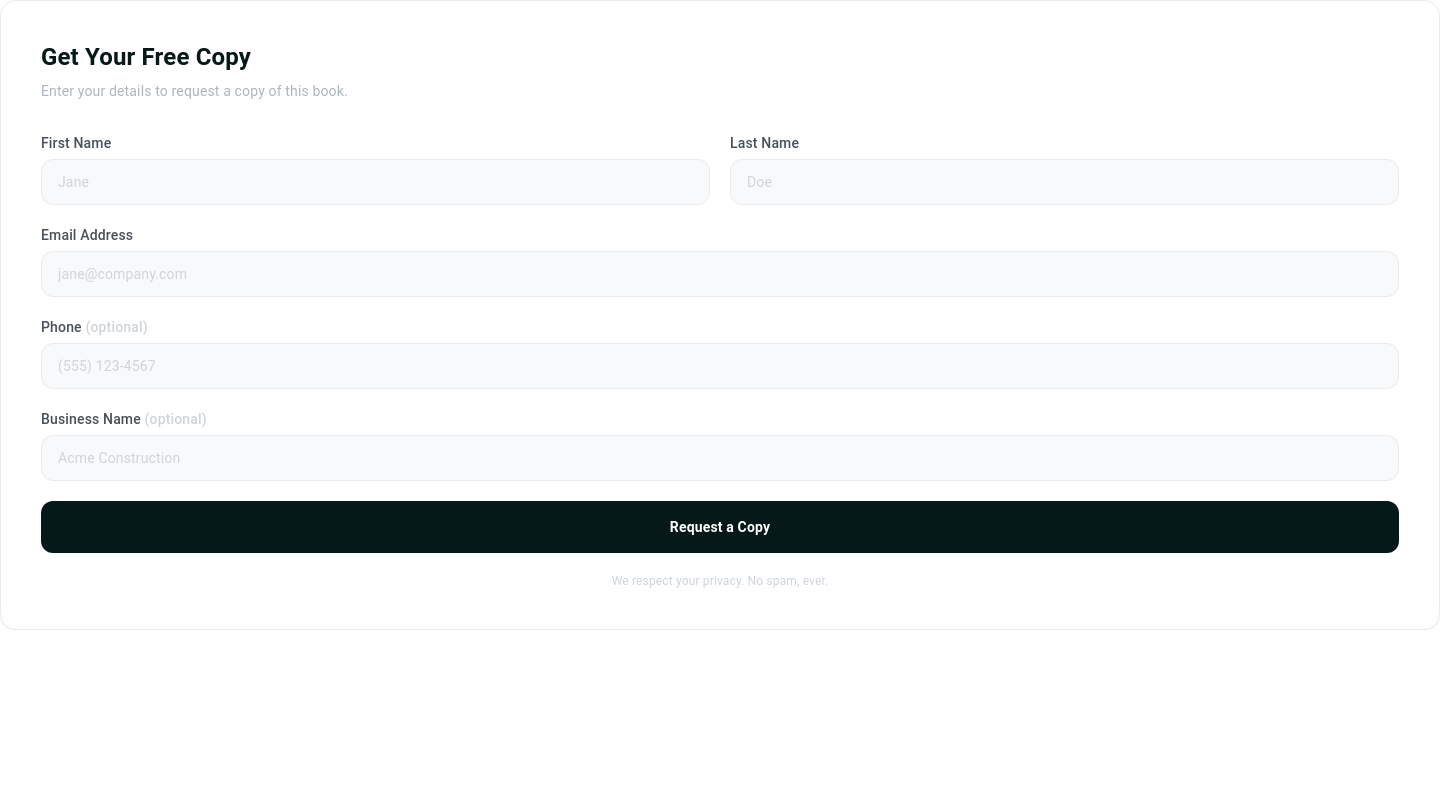
Test: book lead identity › keeps the form retryable after failed delivery
Step 1. Type "Ava" into the field labelled "First Name" → (376, 182), box [41,159,710,205]
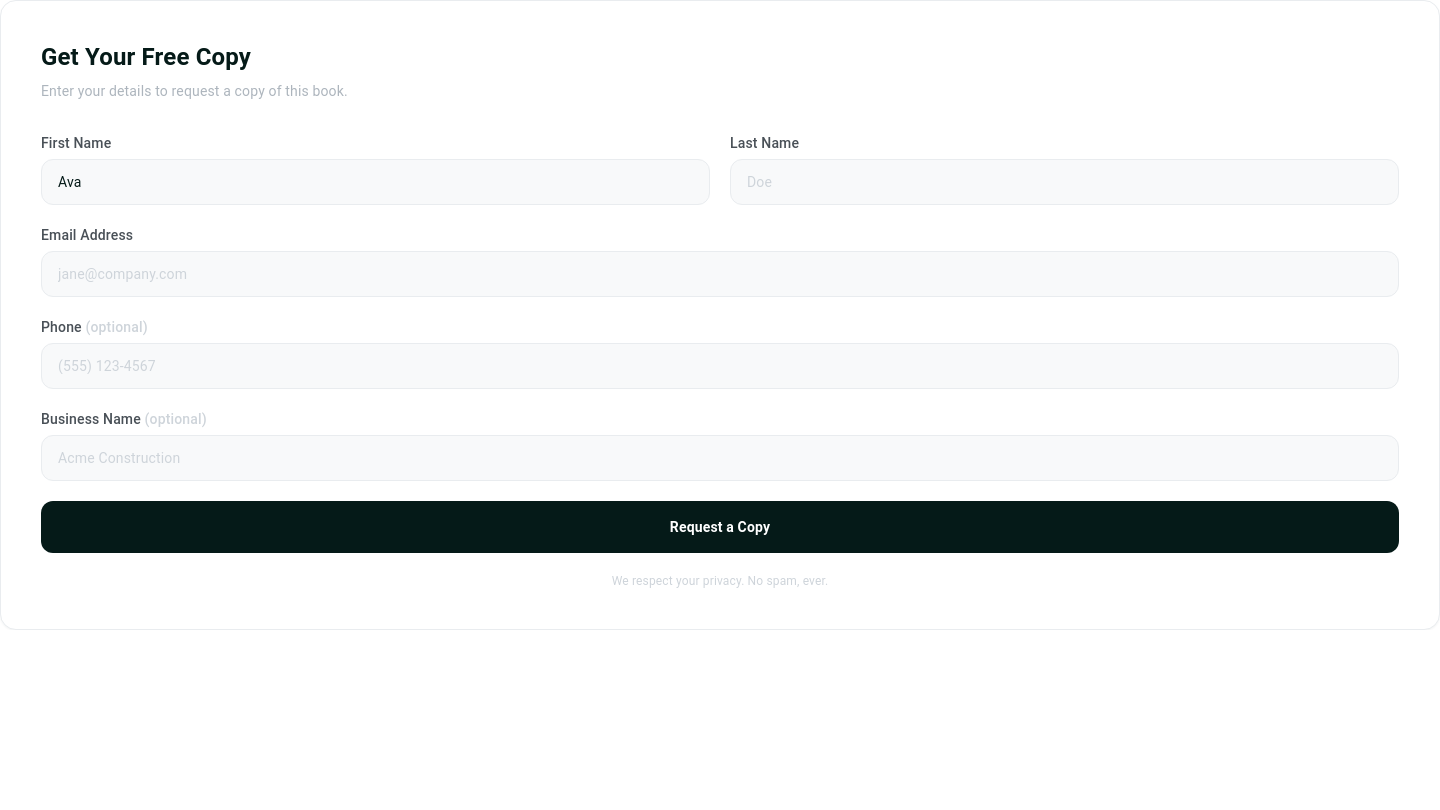
Step 2. Type "Rivera" into the field labelled "Last Name" → (1064, 182), box [730,159,1399,205]
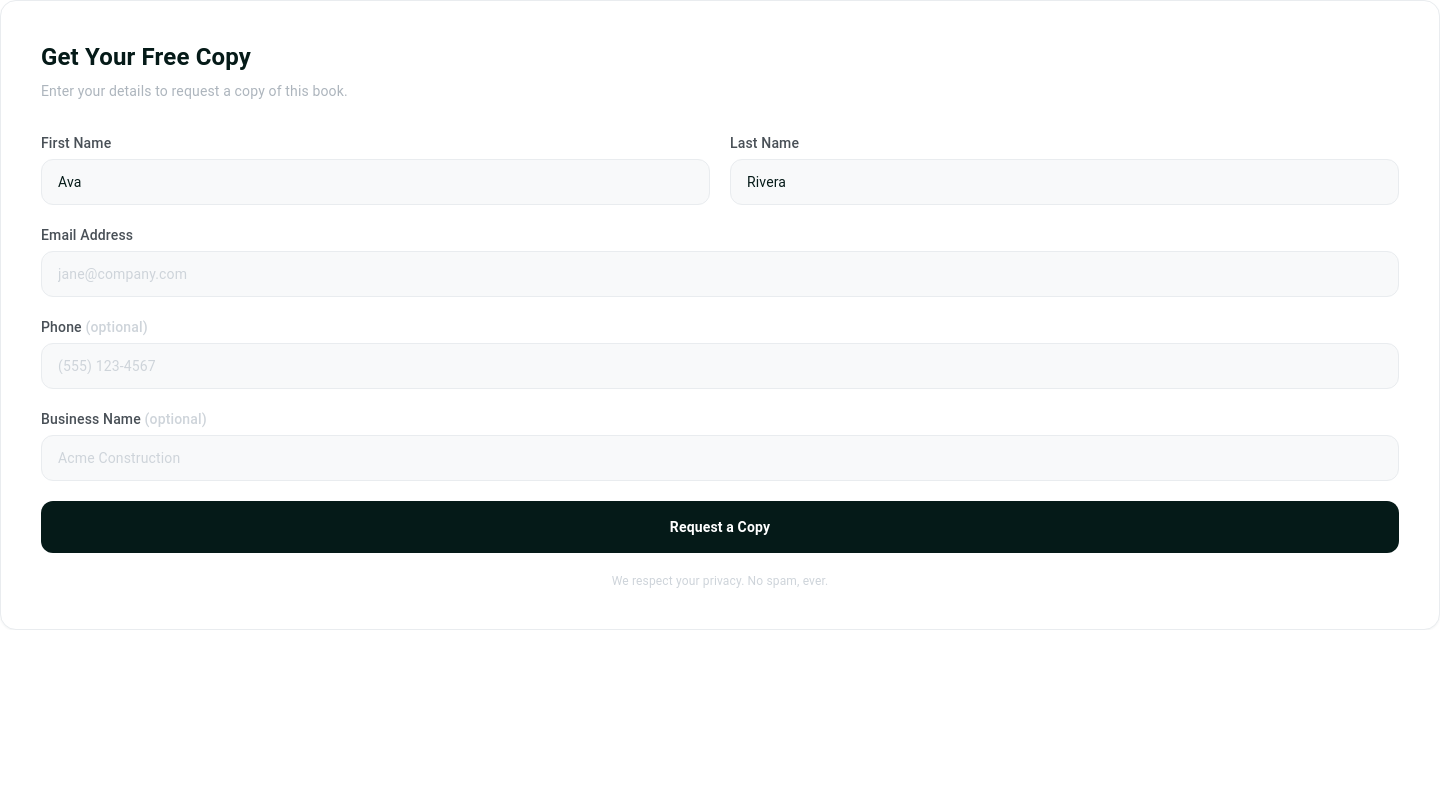
Step 3. Type "ava@example.test" into the field labelled "Email Address" → (720, 274), box [41,251,1399,297]
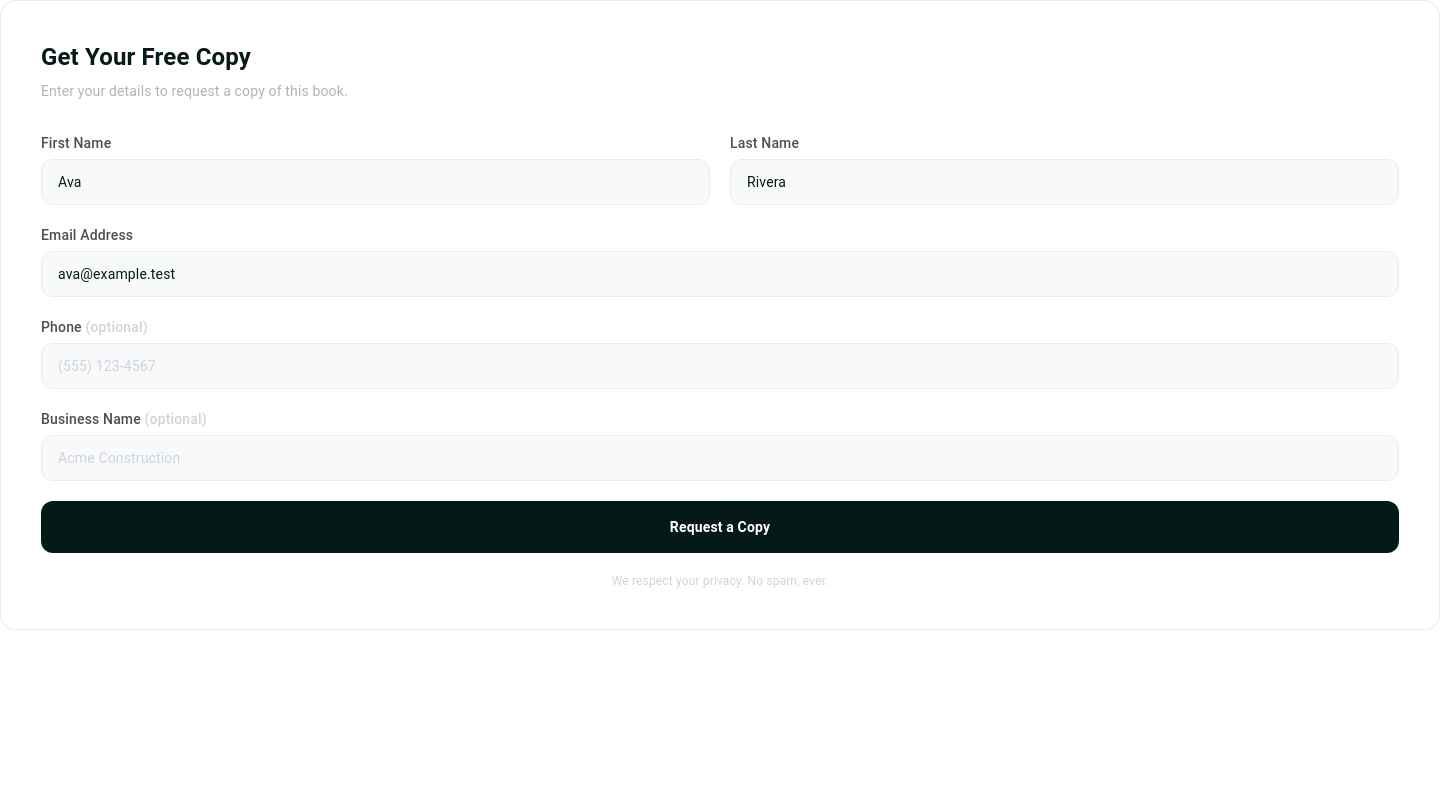
Step 4. Click the button "Request a Copy" → (720, 527), box [41,501,1399,553]
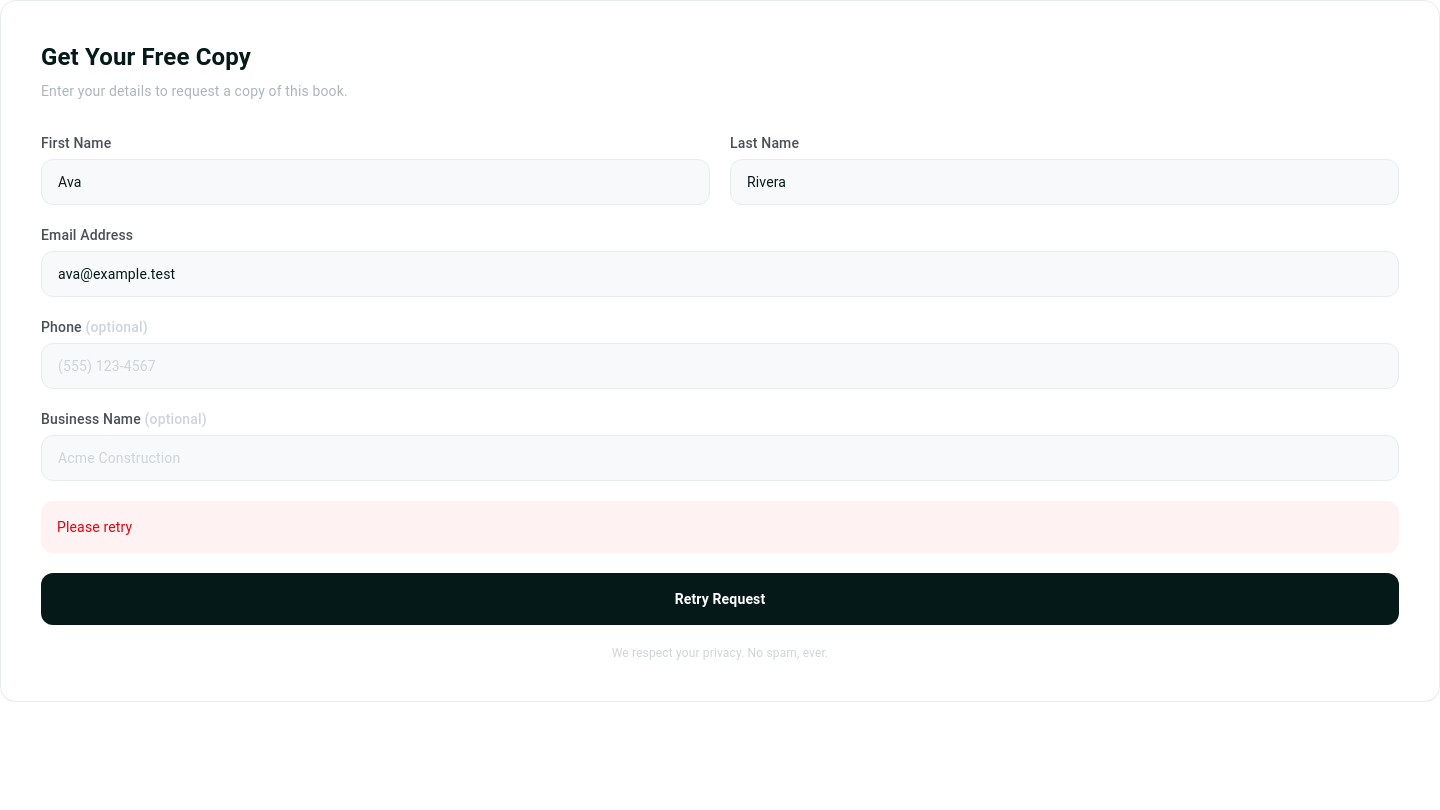
Expected: the button "Retry Request" is enabled, [41,573,1399,625]
Result: the message reads "Please retry" at [57,519,132,535]
